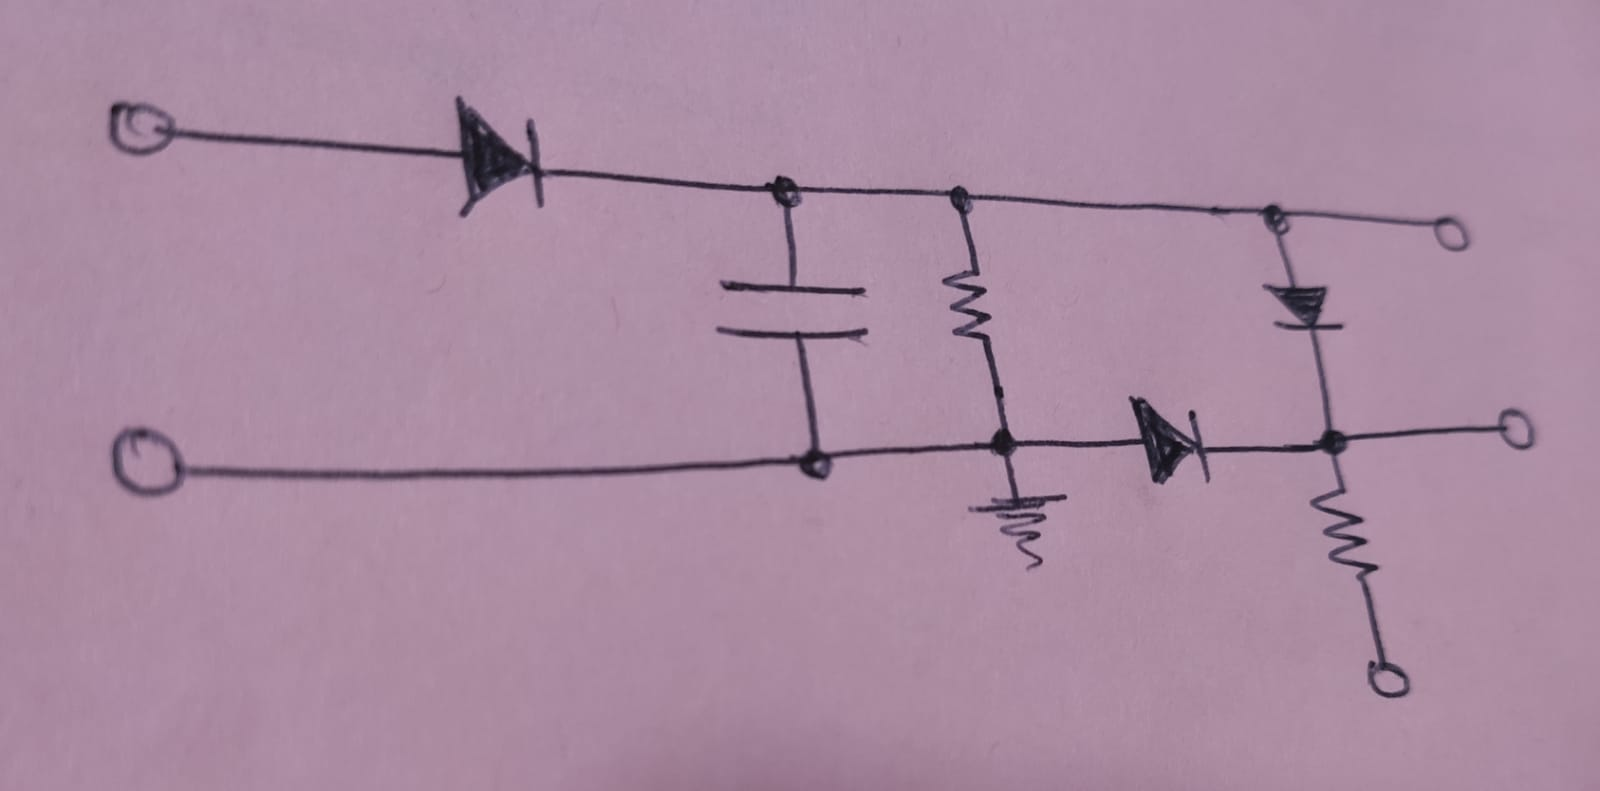capacitor.unpolarized: (719, 268, 864, 352)
diode: (451, 95, 551, 219), (1124, 397, 1213, 485), (1262, 277, 1344, 337)
gnd: (969, 487, 1067, 574)
junction: (1307, 424, 1365, 462), (759, 171, 812, 212), (1256, 195, 1301, 239), (796, 445, 841, 482), (944, 180, 979, 221), (985, 425, 1024, 458)
resistor: (1306, 477, 1380, 587), (938, 259, 997, 346)
terminal: (109, 424, 199, 501), (101, 95, 195, 155), (1358, 646, 1421, 705), (1490, 406, 1539, 451), (1427, 211, 1476, 255)
